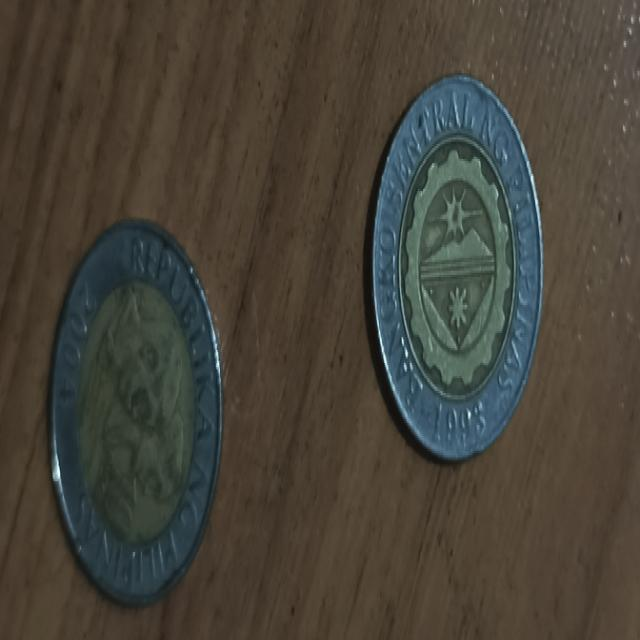10_peso: (50, 221, 222, 603), (372, 77, 542, 457)
